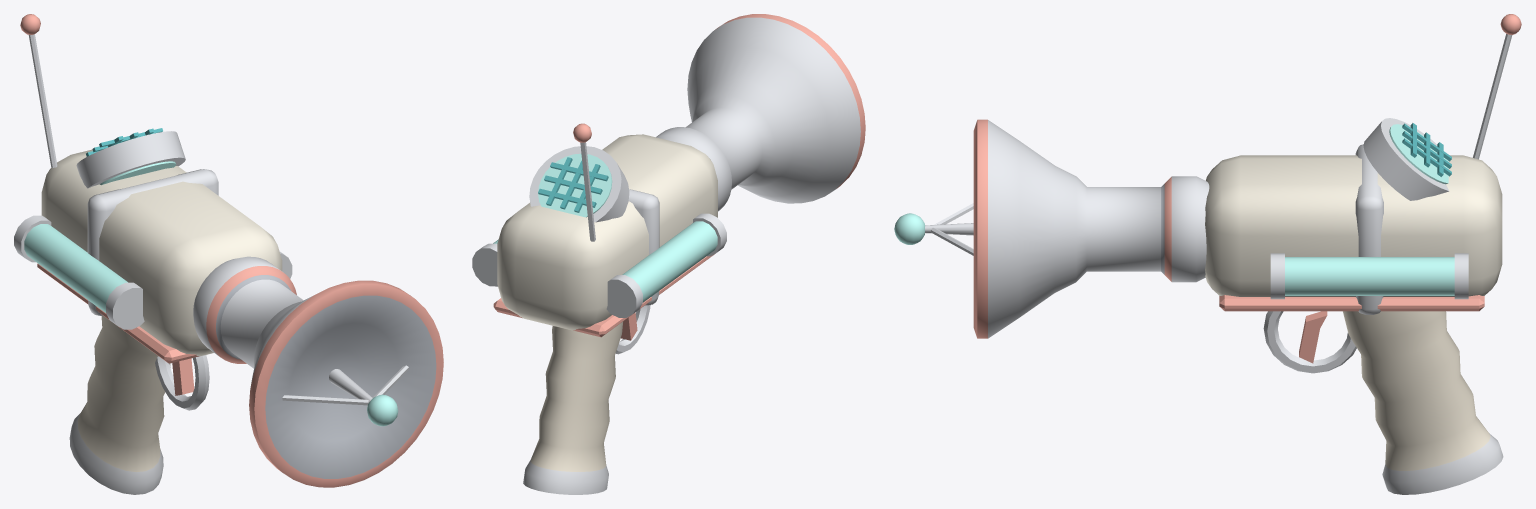
File: ic_fabricator.glb
3 views of the same model, side by side, from view 1: azimuth 30°, elevation 25°; view 2: azimuth 150°, elevation 25°; view 3: azimuth 270°, elevation 25° (orthographic). The views are drawn at different scales.
Visible parts, largest first — view 1: ic_fabricator; view 2: ic_fabricator; view 3: ic_fabricator.
Boxes of the visible parts, bbox=[...] form: ic_fabricator: bbox=[14, 14, 443, 494]; ic_fabricator: bbox=[472, 14, 865, 494]; ic_fabricator: bbox=[894, 14, 1521, 494].
Bounding box in the file's own units: 0.124 × 0.2789 × 0.355.
